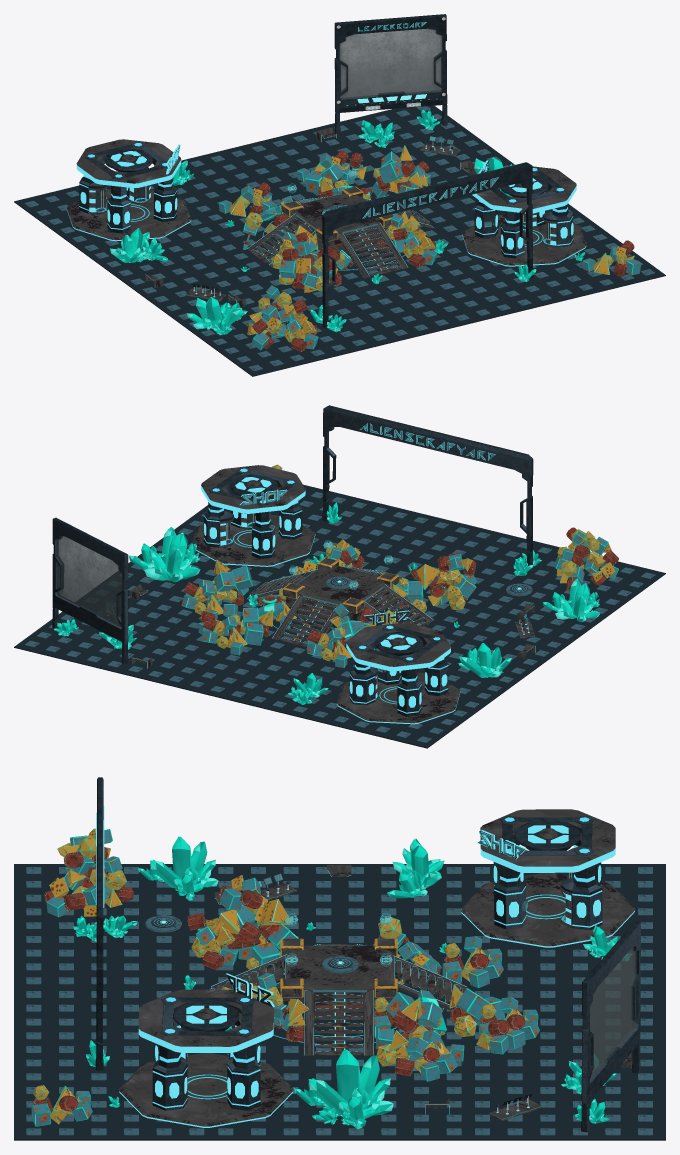
The model's file is as_enviroment_20260907.glb.
3 renders of one model, top to bottom at view 1: azimuth 30°, elevation 25°; view 2: azimuth 150°, elevation 25°; view 3: azimuth 270°, elevation 25°, orthographic. The views are drawn at different scales.
Visible parts, largest first — view 1: Floor_Base.001, Floor_P_0_0.002, defaultMaterial.002, defaultMaterial.001, defaultMaterial, Dome_Rock_0.002, Dome_Rock_0.003, Dome_Base1.002, Dome_Base1, Dome_Body.001, Base.001, Dome_Body (+8 smaller); view 2: Floor_Base.001, Floor_P_0_0.002, defaultMaterial.001, defaultMaterial.002, defaultMaterial, Dome_Rock_0.002, Dome_Rock_0.003, Dome_Base1.002, Dome_Base1, Base.001, Dome_Body.001, Dome_Body (+11 smaller); view 3: Floor_Base.001, Floor_P_0_0.002, Dome_Base1, Dome_Base1.002, Dome_Rock_0.003, defaultMaterial, Dome_Rock_0.002, Base.001, Dome_Body, Dome_Body.001, defaultMaterial.002, Crystal.023 (+22 smaller).
Boxes of the visible parts, x1,y1,x2,y2 form: Floor_Base.001: (14,105,665,376); Floor_P_0_0.002: (24,106,654,371); defaultMaterial.002: (339,28,442,98); defaultMaterial.001: (322,162,533,328); defaultMaterial: (334,14,447,133); Dome_Rock_0.002: (79,141,177,233); Dome_Rock_0.003: (474,167,573,258); Dome_Base1.002: (66,189,191,241); Dome_Base1: (462,215,586,266); Dome_Body.001: (76,139,181,188); Base.001: (295,194,381,252); Dome_Body: (472,166,576,213); Floor_Base.001: (14,484,665,748); Floor_P_0_0.002: (25,492,655,742); defaultMaterial.001: (322,405,533,571); defaultMaterial.002: (56,535,122,627); defaultMaterial: (52,517,128,664); Dome_Rock_0.002: (349,624,448,716); Dome_Rock_0.003: (203,467,302,559); Dome_Base1.002: (336,672,460,724); Dome_Base1: (192,515,315,566); Base.001: (296,565,384,621); Dome_Body.001: (346,622,450,671); Dome_Body: (201,465,305,513); Floor_Base.001: (14,864,665,1140); Floor_P_0_0.002: (26,867,652,1135); Dome_Base1: (119,1053,293,1127); Dome_Base1.002: (461,873,634,947); Dome_Rock_0.003: (152,995,260,1110); defaultMaterial: (581,921,640,1132); Dome_Rock_0.002: (493,815,602,929); Base.001: (285,945,394,1019); Dome_Body: (138,989,273,1052); Dome_Body.001: (480,809,615,872); defaultMaterial.002: (590,947,636,1079); Crystal.023: (308,1049,393,1115).
Bounding box in the file's own units: 80 × 22.94 × 80.
Materials: 11 (6 with a texture image).
